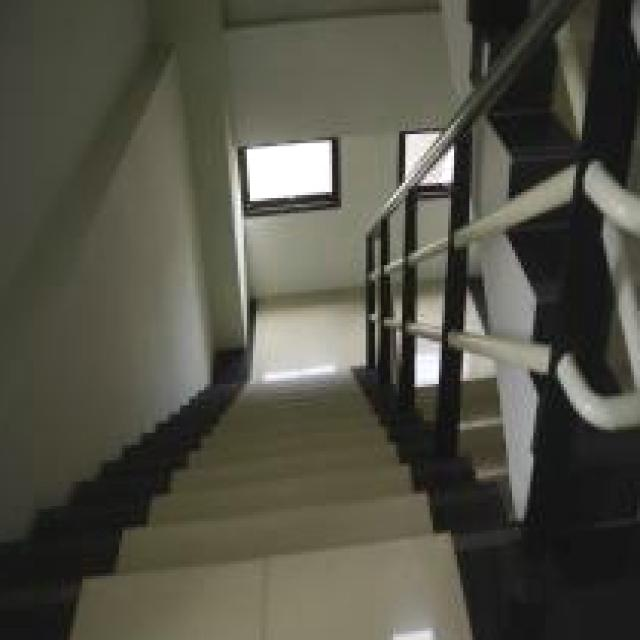downstair: (154, 400, 413, 640)
